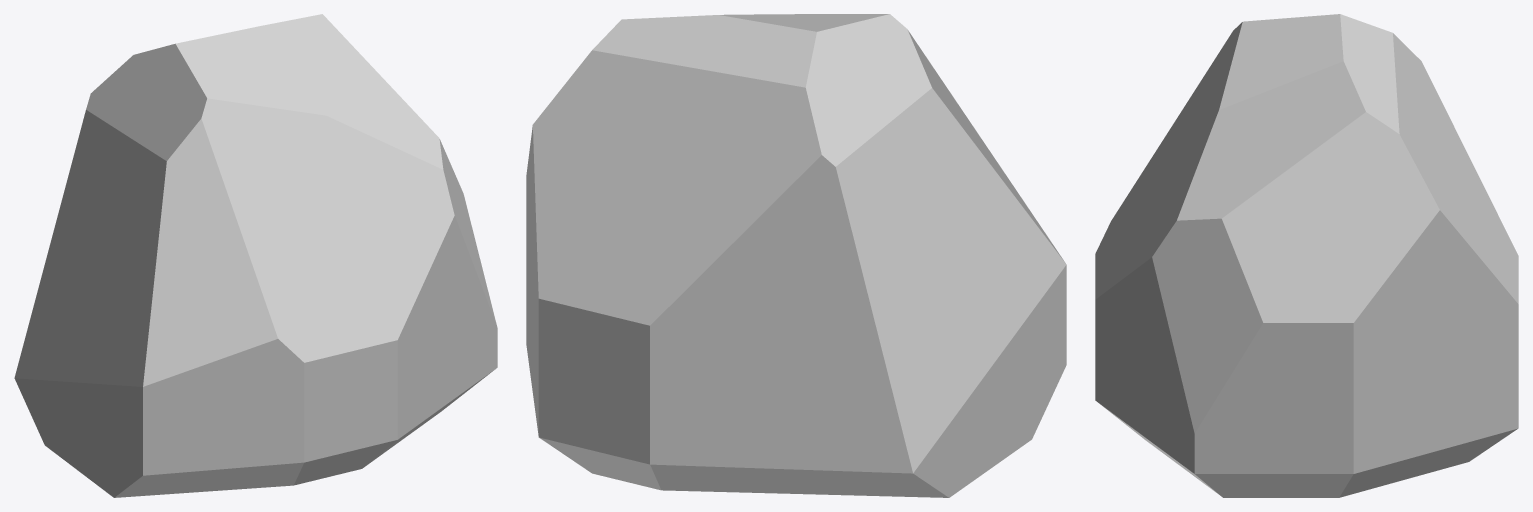
Rendered from rock_02.fbx.
3 views of the same model, side by side, from view 1: azimuth 30°, elevation 25°; view 2: azimuth 150°, elevation 25°; view 3: azimuth 270°, elevation 25° (orthographic). The views are drawn at different scales.
Parts seen in each view (by area): view 1: Rock_02; view 2: Rock_02; view 3: Rock_02.
Part boxes in pixels (x1=…): Rock_02: x1=14, y1=14, x2=497, y2=497; Rock_02: x1=526, y1=14, x2=1066, y2=497; Rock_02: x1=1095, y1=14, x2=1518, y2=497.
Bounding box in the file's own units: 159 × 152 × 153.
